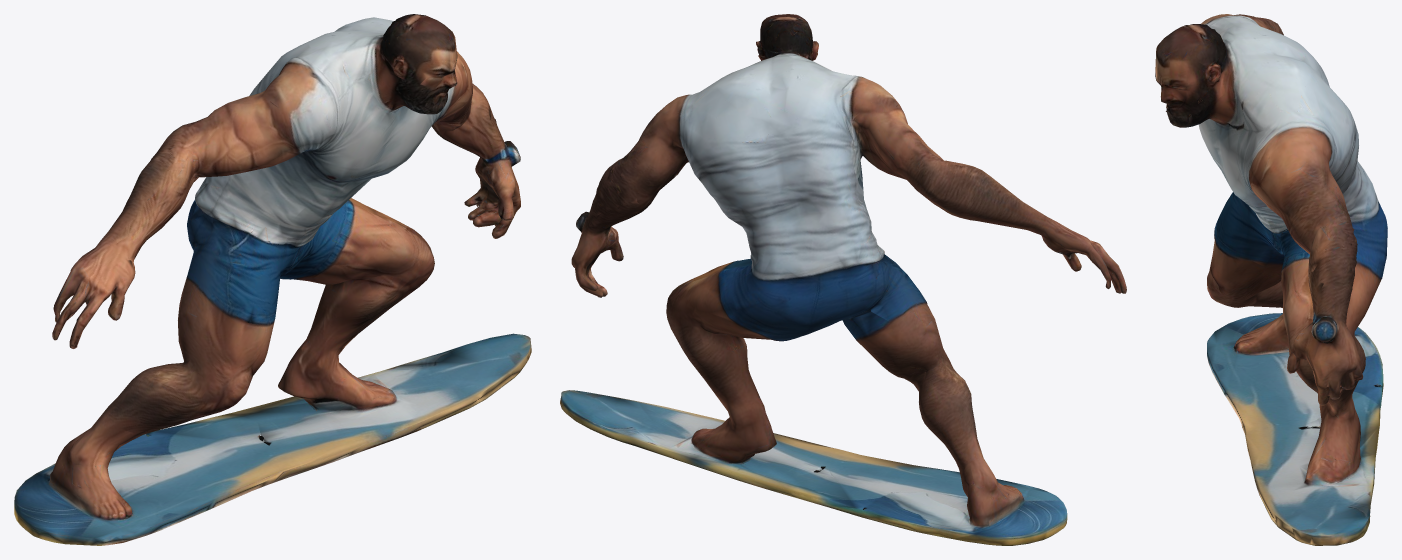
The model's file is kit_izmir_surfer_a.glb.
The picture shows the model from 3 angles, left to right: view 1: azimuth 30°, elevation 25°; view 2: azimuth 150°, elevation 25°; view 3: azimuth 270°, elevation 25°; orthographic projection. The views are drawn at different scales.
Visible parts, largest first — view 1: Mesh1.0; view 2: Mesh1.0; view 3: Mesh1.0.
Part boxes in pixels (left/top/right/bottom): Mesh1.0: left=14, top=14, right=531, bottom=545; Mesh1.0: left=560, top=14, right=1126, bottom=545; Mesh1.0: left=1155, top=14, right=1387, bottom=545.
Bounding box in the file's own units: 2.27 × 1.8 × 0.8151.
1 material, 1 textured.
